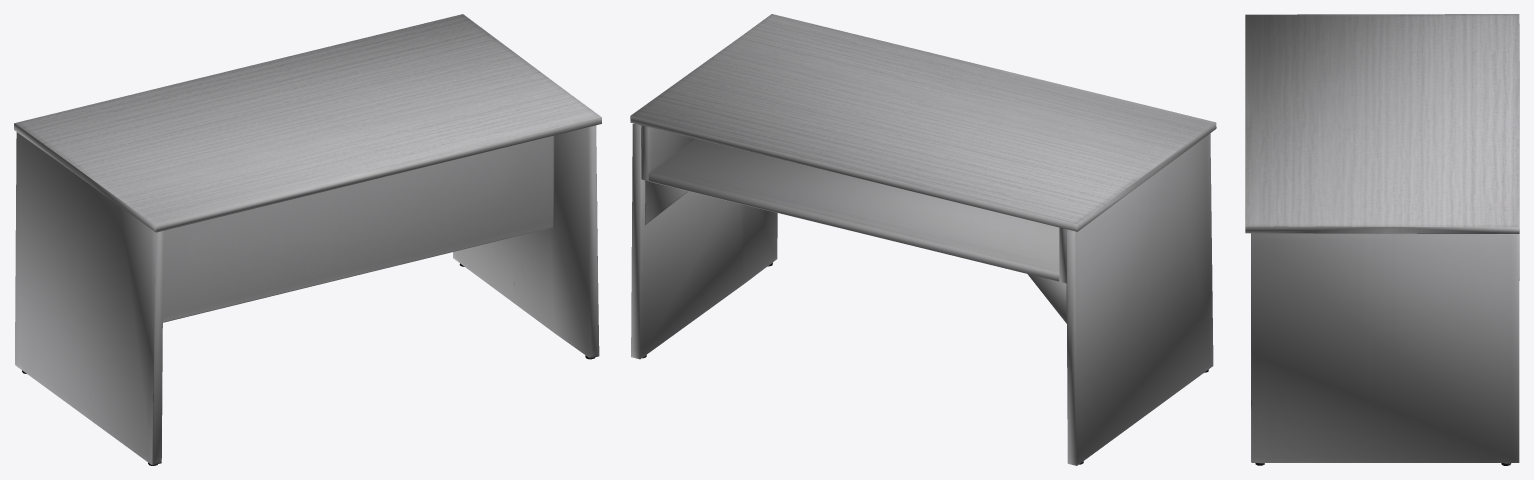
The model's file is gray_office_desk_3d_model.fbx.
3 renders of one model, left to right at view 1: azimuth 30°, elevation 25°; view 2: azimuth 150°, elevation 25°; view 3: azimuth 270°, elevation 25°, orthographic. The views are drawn at different scales.
Visible parts, largest first — view 1: tripo_node_5be263ea; view 2: tripo_node_5be263ea; view 3: tripo_node_5be263ea.
Part boxes in pixels (box(x1,y1,x2,y2)): tripo_node_5be263ea: box(14, 14, 601, 465); tripo_node_5be263ea: box(630, 14, 1216, 465); tripo_node_5be263ea: box(1245, 14, 1519, 465).
Bounding box in the file's own units: 0.9995 × 0.522 × 0.5425.
